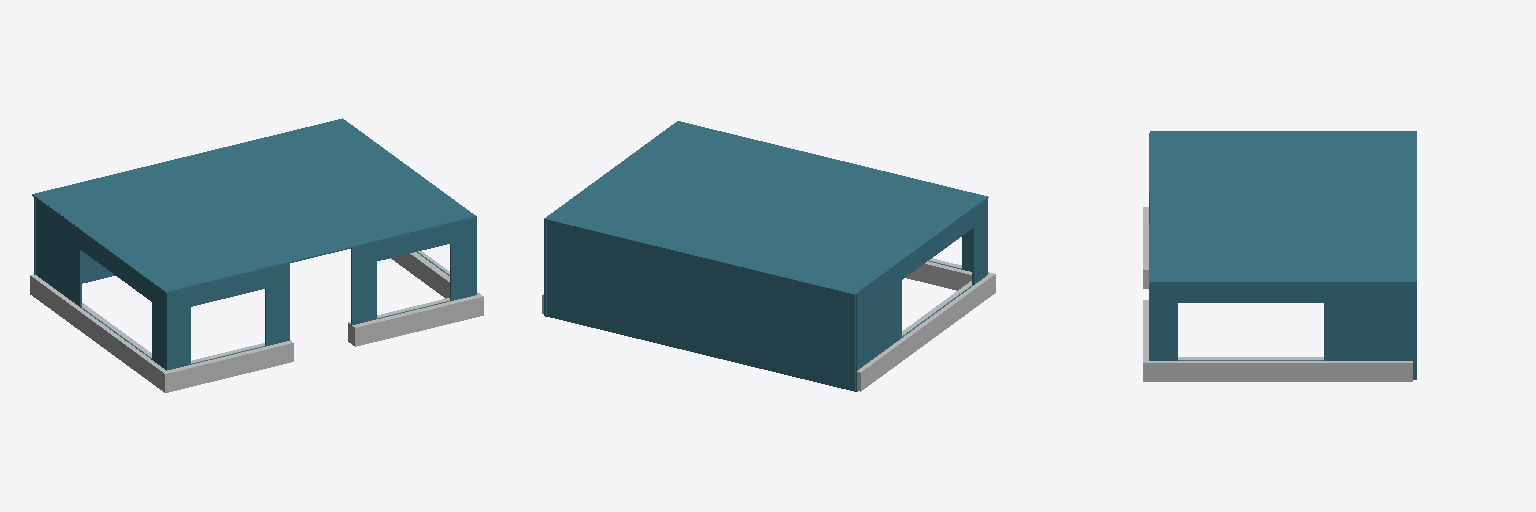
Rendered from dindingluar.obj.
The picture shows the model from 3 angles: view 1: azimuth 30°, elevation 25°; view 2: azimuth 150°, elevation 25°; view 3: azimuth 270°, elevation 25°; orthographic projection.
Parts seen in each view (by area): view 1: Cube.089_Cube.090_Cube.089_Cube.002, Cube.004_Cube.093_Cube.004_Cube.002, Cube_Cube.008, Cube.001_Cube.080, Cube.002_Cube.081, Cube.084_Cube.085_Cube.084_Cube.002, Cube.081_Cube.082_Cube.081_Cube.002, Cube.080_Cube.081_Cube.080_Cube.002, Cube.087_Cube.088_Cube.087_Cube.002, Cube.088_Cube.089_Cube.088_Cube.002, Cube.086_Cube.087_Cube.086_Cube.002, Cube.085_Cube.086_Cube.085_Cube.002 (+3 smaller); view 2: Cube.089_Cube.090_Cube.089_Cube.002, Cube.002_Cube.094_Cube.002_Cube.004, Cube.004_Cube.093_Cube.004_Cube.002, Cube_Cube.008, Cube.080_Cube.081_Cube.080_Cube.002, Cube.002_Cube.081, Cube.082_Cube.083_Cube.082_Cube.002; view 3: Cube.089_Cube.090_Cube.089_Cube.002, Cube.001_Cube.093_Cube.001_Cube.002, Cube.003_Cube.082, Cube.083_Cube.084_Cube.083_Cube.002, Cube.090_Cube.091_Cube.090_Cube.002, Cube.001_Cube.080.
Part boxes in pixels (x1,y1,x2,y2): Cube.089_Cube.090_Cube.089_Cube.002: (32,118,476,293); Cube.004_Cube.093_Cube.004_Cube.002: (35,195,81,306); Cube_Cube.008: (30,275,165,387); Cube.001_Cube.080: (348,294,483,346); Cube.002_Cube.081: (158,340,293,392); Cube.084_Cube.085_Cube.084_Cube.002: (352,219,474,267); Cube.081_Cube.082_Cube.081_Cube.002: (167,264,289,312); Cube.080_Cube.081_Cube.080_Cube.002: (79,231,166,312); Cube.087_Cube.088_Cube.087_Cube.002: (351,243,376,324); Cube.088_Cube.089_Cube.088_Cube.002: (265,264,289,345); Cube.086_Cube.087_Cube.086_Cube.002: (450,218,474,300); Cube.085_Cube.086_Cube.085_Cube.002: (167,288,190,369); Cube.089_Cube.090_Cube.089_Cube.002: (544,121,988,295); Cube.002_Cube.094_Cube.002_Cube.004: (546,221,857,391); Cube.004_Cube.093_Cube.004_Cube.002: (854,259,901,390); Cube_Cube.008: (857,275,991,391); Cube.080_Cube.081_Cube.080_Cube.002: (901,199,987,279); Cube.002_Cube.081: (906,258,995,297); Cube.082_Cube.083_Cube.082_Cube.002: (972,218,987,284); Cube.089_Cube.090_Cube.089_Cube.002: (1150,131,1416,283); Cube.001_Cube.093_Cube.001_Cube.002: (1324,284,1416,379); Cube.003_Cube.082: (1149,357,1412,381); Cube.083_Cube.084_Cube.083_Cube.002: (1151,284,1323,302); Cube.090_Cube.091_Cube.090_Cube.002: (1149,284,1177,360); Cube.001_Cube.080: (1143,300,1157,381).
Size of the model in its own units: 69.49 by 20.68 by 51.84.